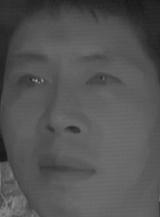eye: (12, 72, 51, 94), (83, 69, 121, 91)
mouth: (32, 149, 97, 190)
